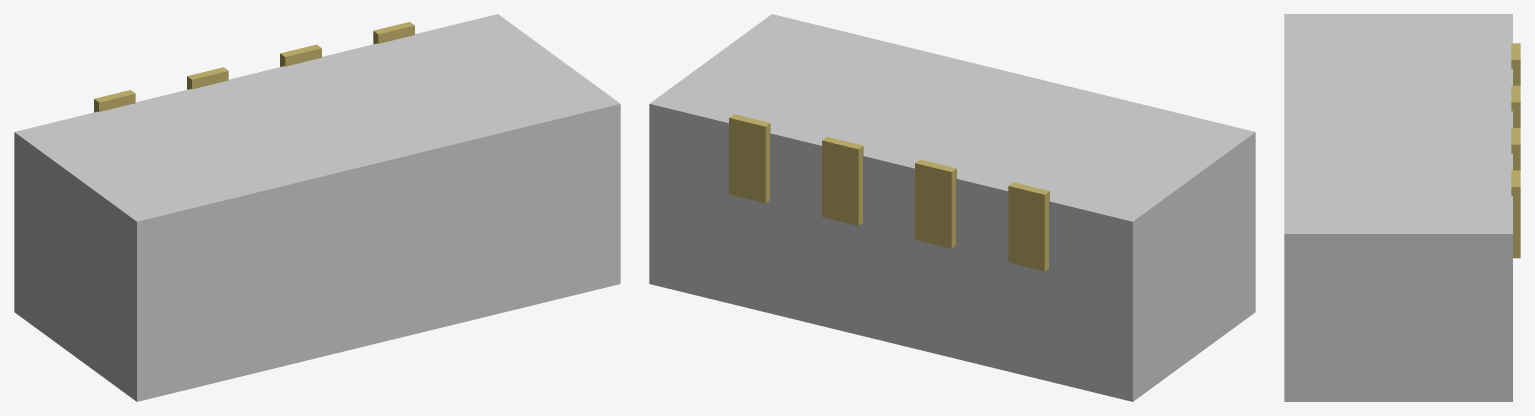
File: veml7700.glb
3 renders of one model, left to right at view 1: azimuth 30°, elevation 25°; view 2: azimuth 150°, elevation 25°; view 3: azimuth 270°, elevation 25°, orthographic. The views are drawn at different scales.
Visible parts, largest first — view 1: housing, pins; view 2: housing, pins; view 3: housing, pins.
Boxes of the visible parts, box(x1,y1,x2,y2) form: housing: box(14, 14, 620, 401); pins: box(94, 22, 414, 112); housing: box(649, 14, 1255, 401); pins: box(729, 114, 1049, 271); housing: box(1284, 14, 1512, 401); pins: box(1511, 43, 1520, 258).
Size of the model in its own units: 6.6 by 2.47 by 3.
